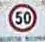limite 50: (6, 3, 37, 31)
